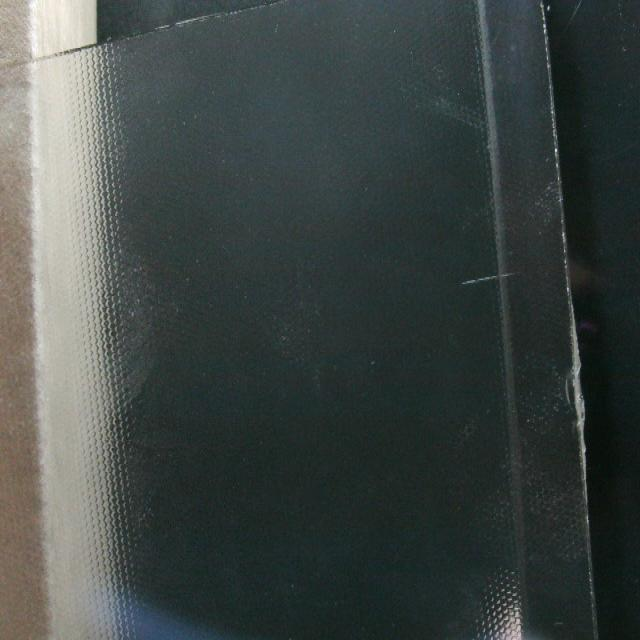edge_chip: (558, 332, 594, 486)
scratch: (455, 262, 525, 293)
